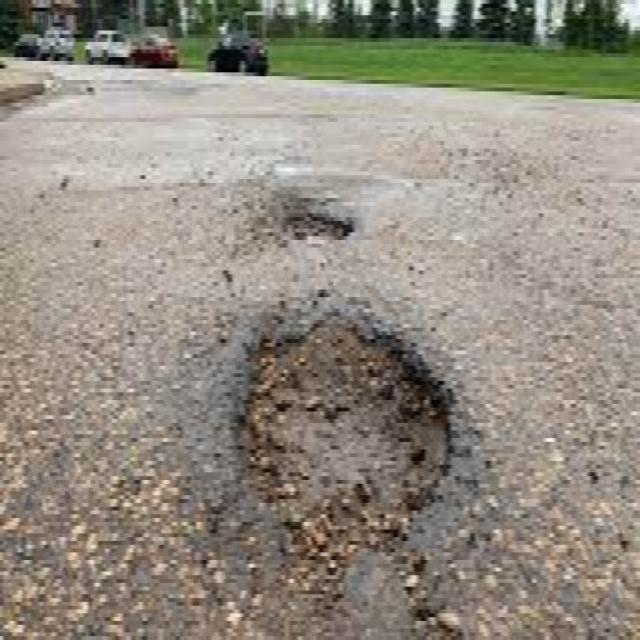Pothole: (218, 294, 472, 588), (271, 205, 361, 248)
